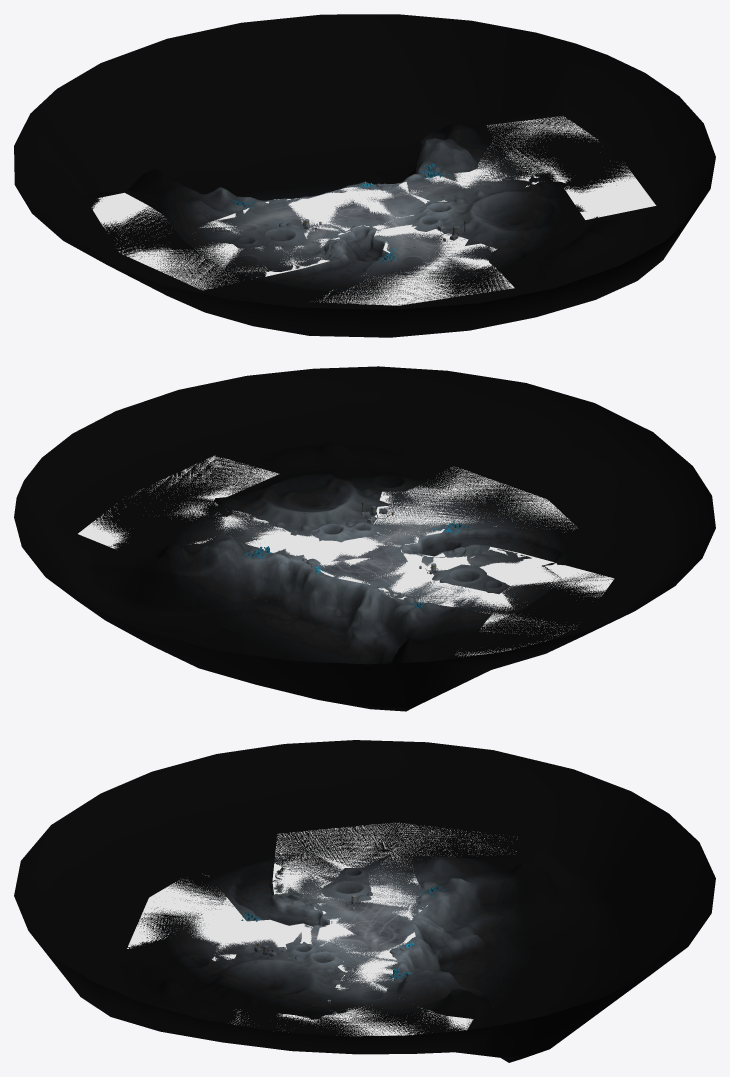
File: Terrain.fbx
The picture shows the model from 3 angles, top to bottom: view 1: azimuth 30°, elevation 25°; view 2: azimuth 150°, elevation 25°; view 3: azimuth 270°, elevation 25°; orthographic projection.
Visible parts, largest first — view 1: floor, floorcollide; view 2: floor, floorcollide; view 3: floor, floorcollide.
Part boxes in pixels (x1,y1,x2,y2): floor: [14, 14, 715, 337]; floorcollide: [91, 116, 656, 305]; floor: [14, 366, 715, 711]; floorcollide: [78, 455, 614, 656]; floor: [14, 740, 715, 1062]; floorcollide: [127, 822, 516, 1036].
Bounding box in the file's own units: 281 × 36.64 × 281.
2 materials, 1 textured.
